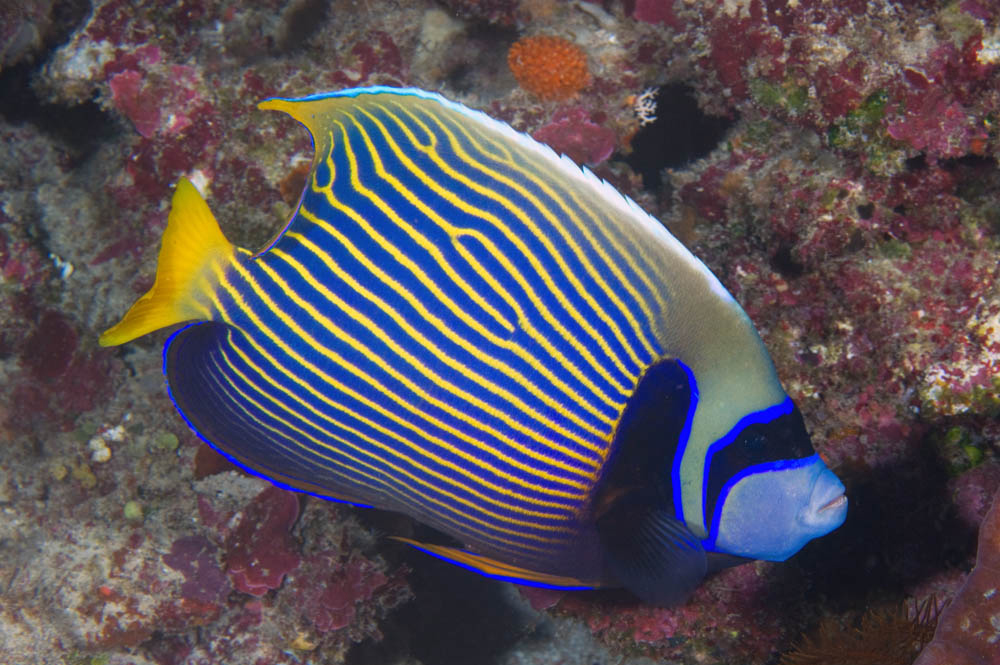Pomacanthus_imperator: (87, 77, 869, 610)
